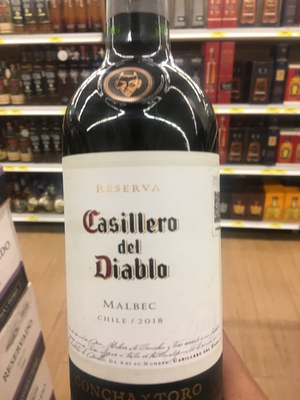casillero del diablo malbec: (51, 6, 243, 400)
